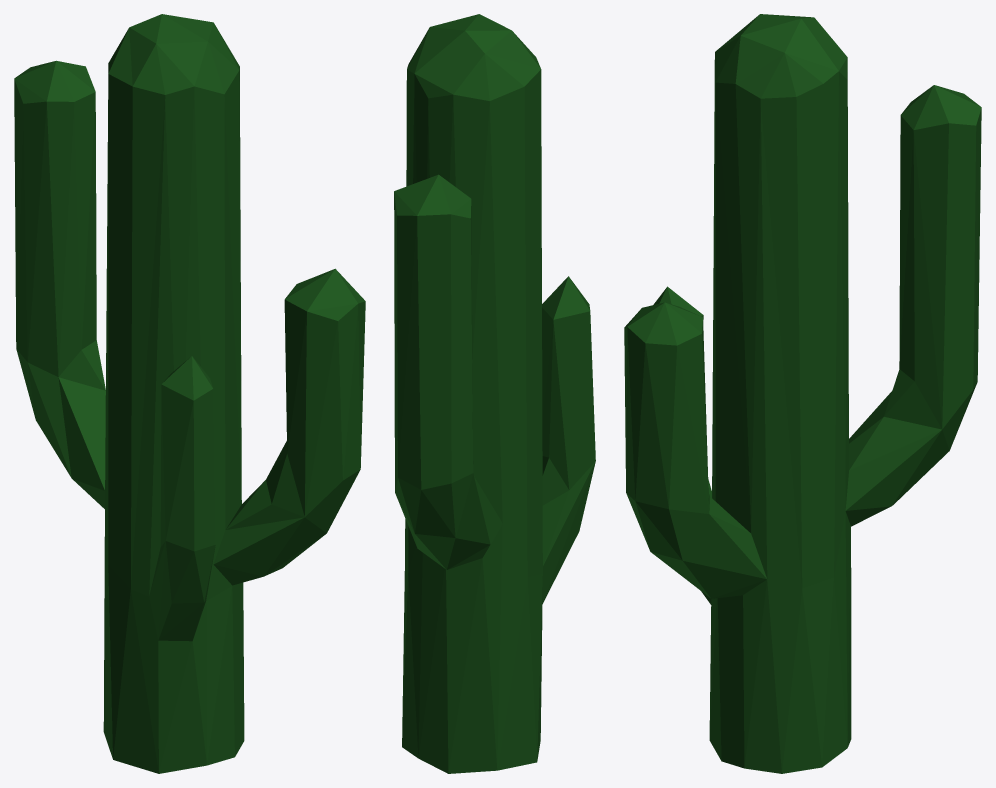
Rendered from cactus_01.obj.
3 renders of one model, left to right at view 1: azimuth 30°, elevation 25°; view 2: azimuth 150°, elevation 25°; view 3: azimuth 270°, elevation 25°, orthographic.
Bounding box in the file's own units: 3.87 × 13.39 × 5.89.
